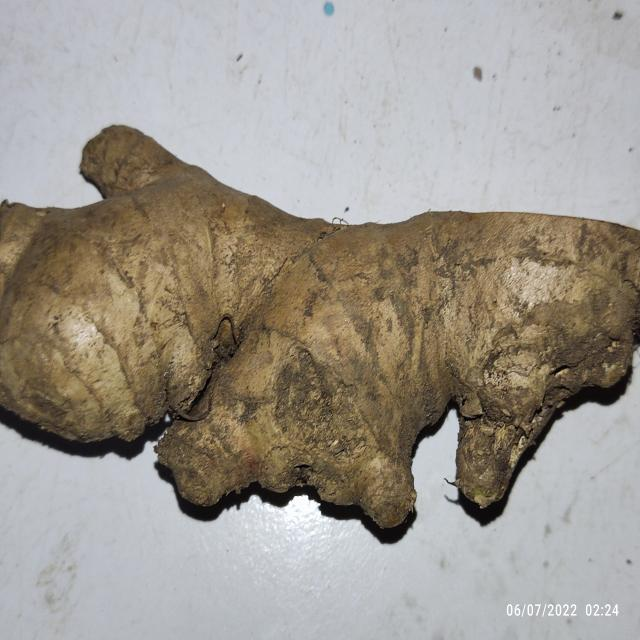ginger: (0, 122, 637, 512)
